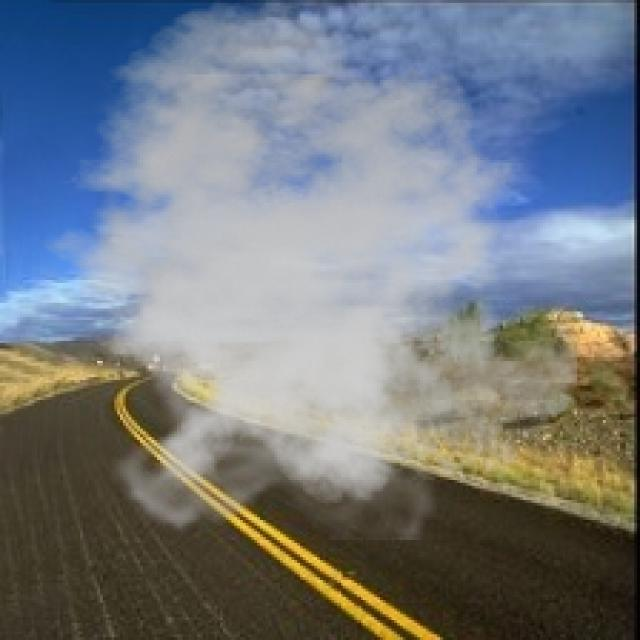Smoke: (20, 0, 577, 540)
